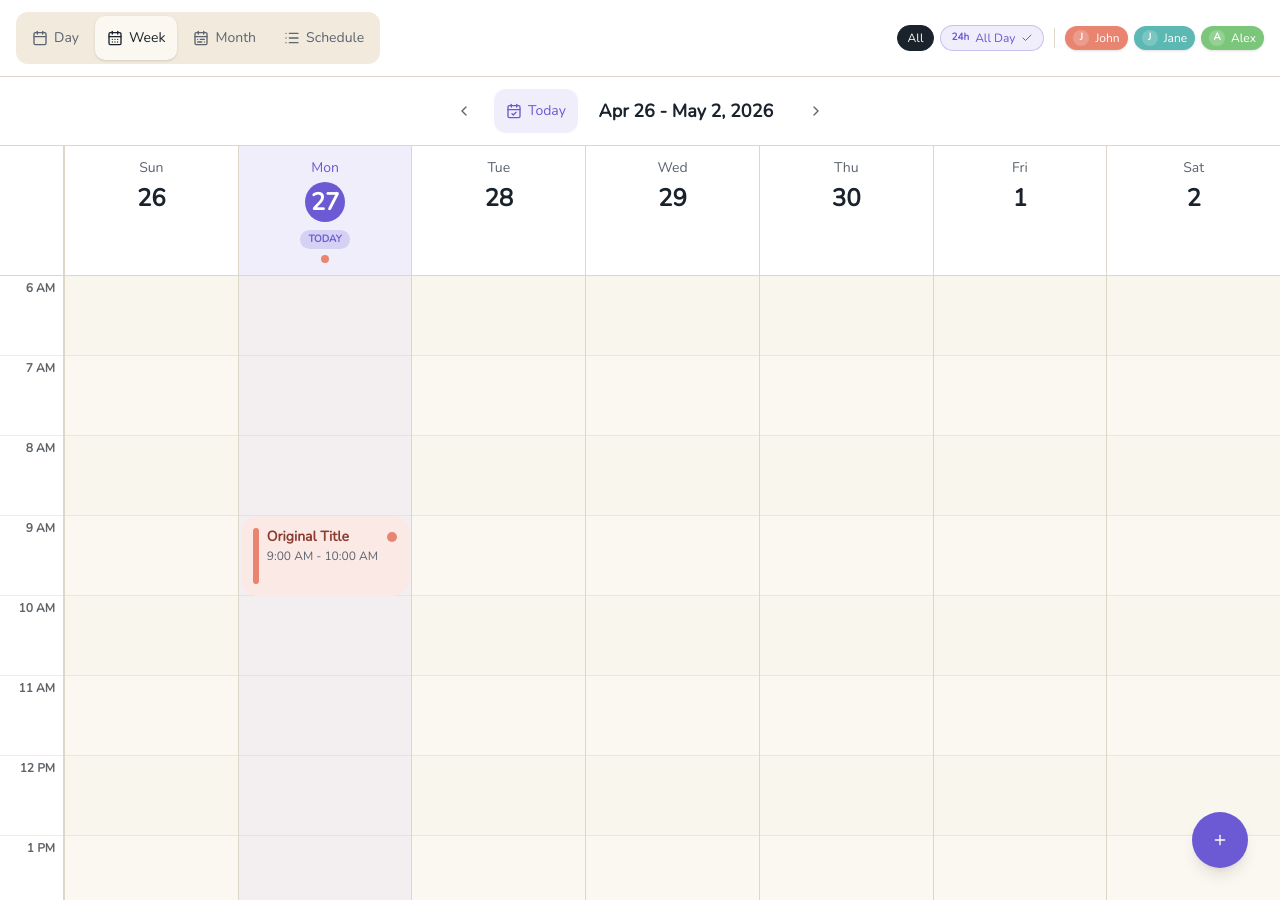
Test case: CalendarModule › Edit Event Flow › opens edit modal from detail modal and updates event
The width and height of the screenshot is (1280, 900).
// Click event to open detail modal
Click the heading "Original Title": click(308, 536) [267, 527, 349, 546]
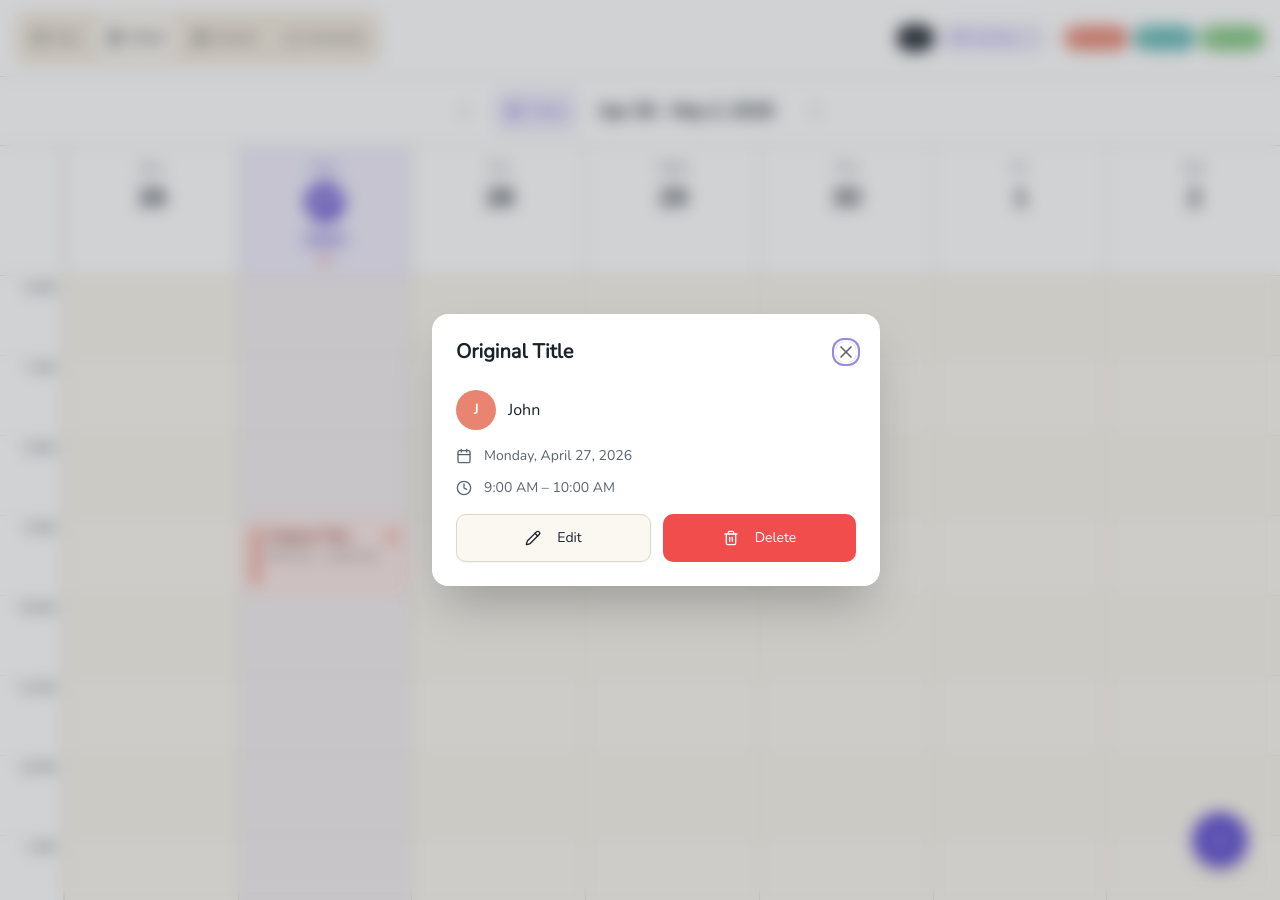
expect the dialog is shown: met, box [432, 314, 880, 586]
// Click edit button
Click the button "Edit": click(554, 538) [456, 514, 651, 562]
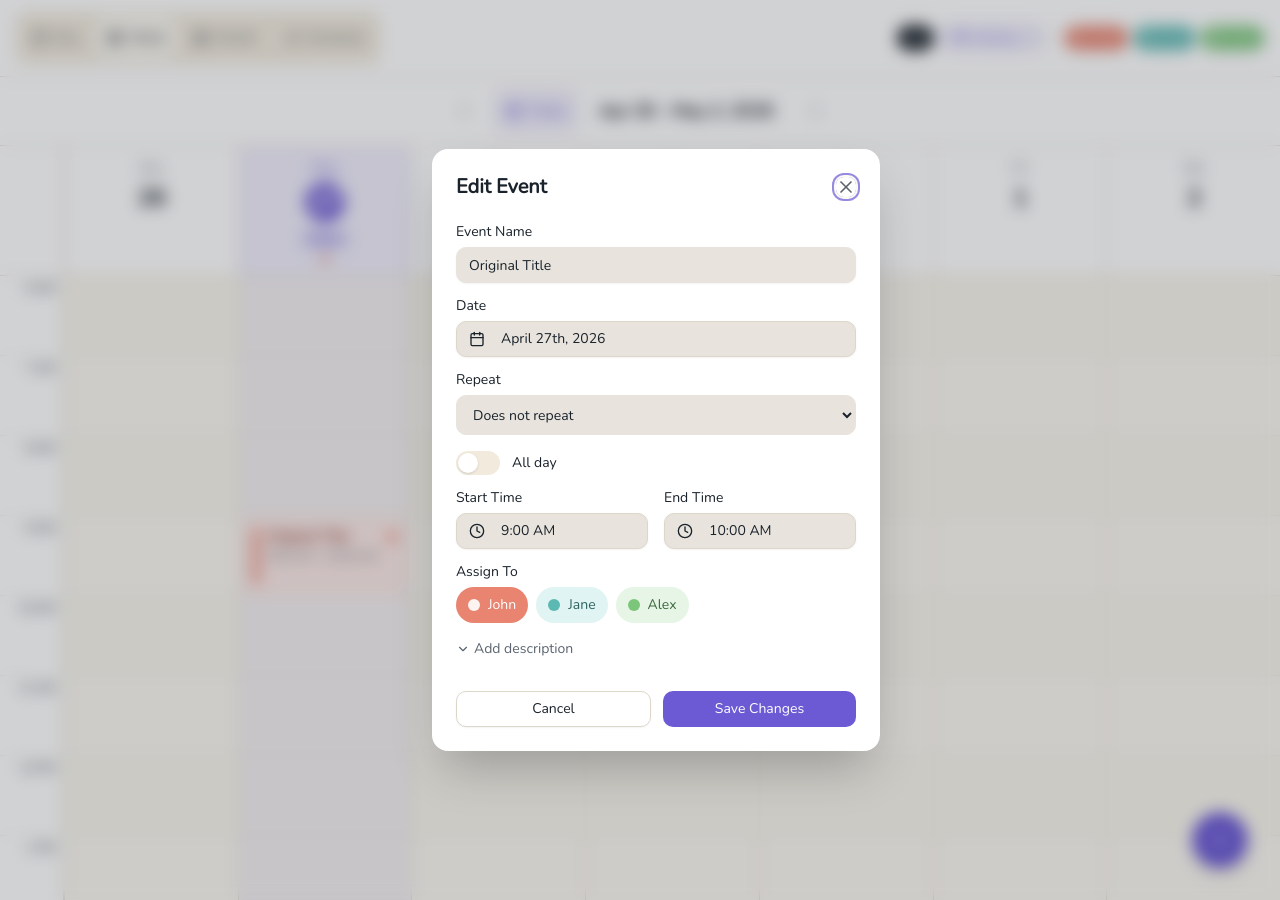
expect the field labelled "Event Name" holds "Original Title": met
// Update the title
Replace the text in the field labelled "Event Name" with "Updated Title": (656, 265) [456, 247, 856, 283]
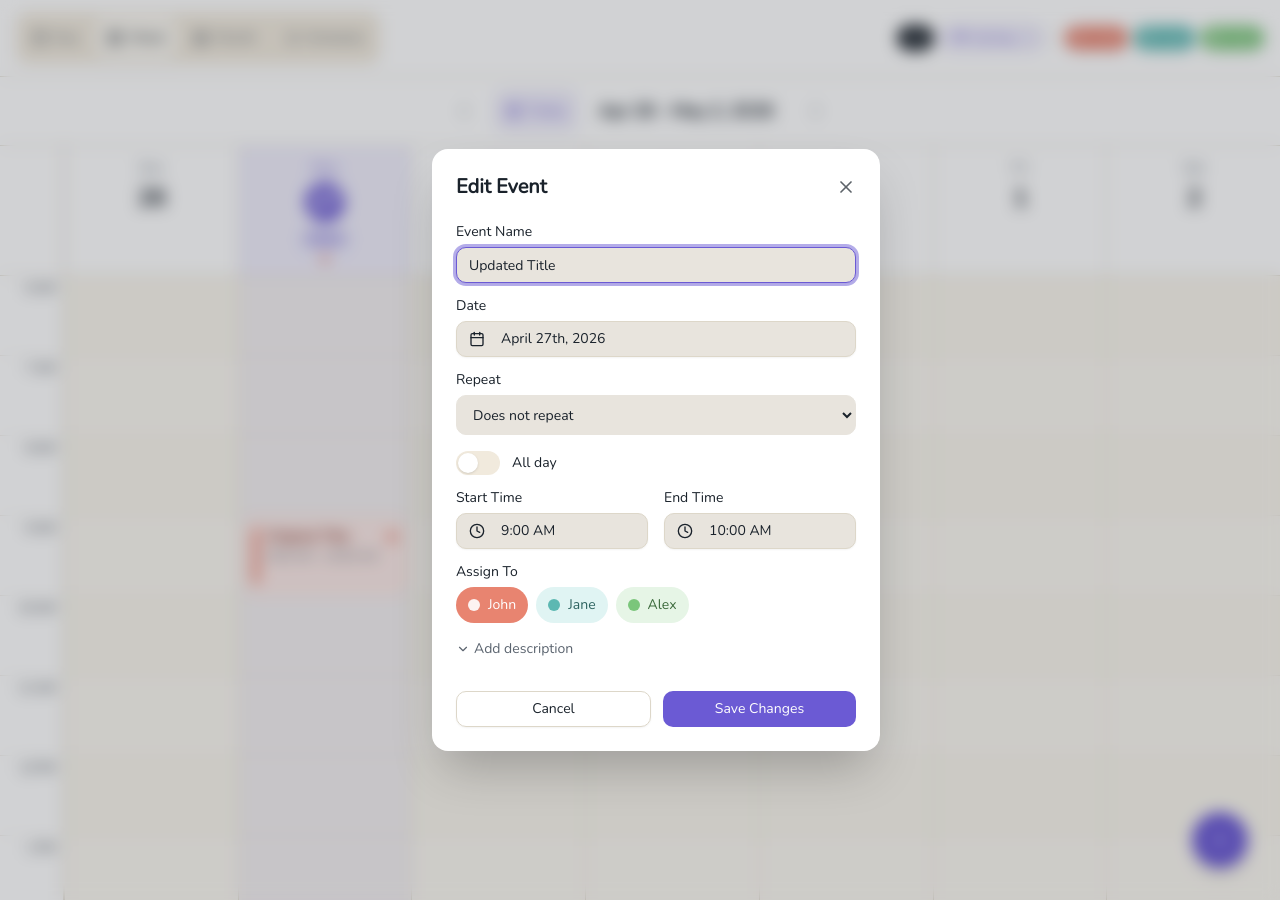
Click the button "Save Changes": click(760, 709) [663, 691, 856, 727]
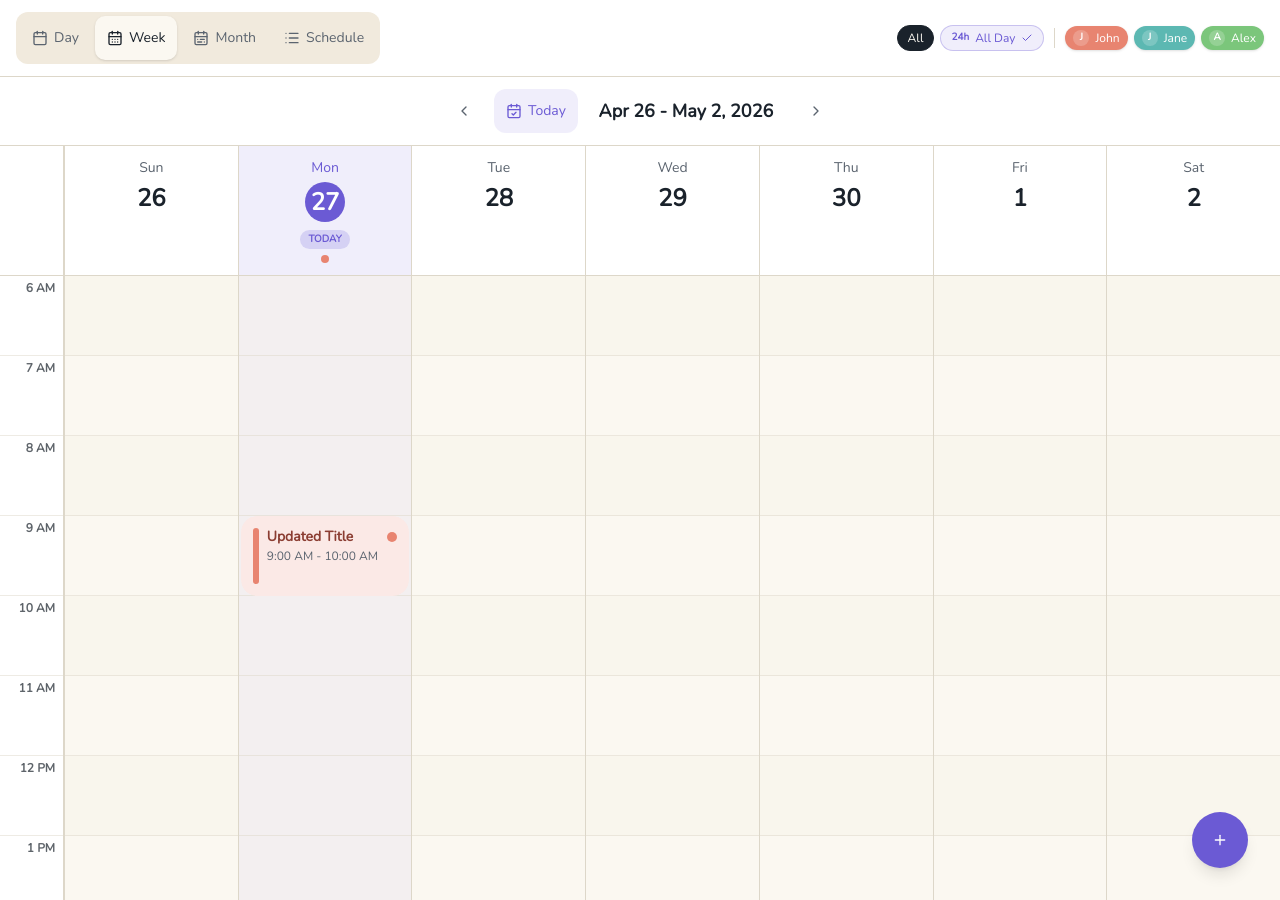
expect the dialog is gone: met
expect the heading "Updated Title" is shown: met, box [267, 527, 353, 546]
expect the button "Original Title" is gone: met
